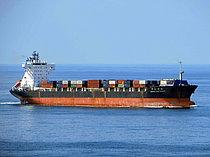Ship: (9, 47, 200, 112)
